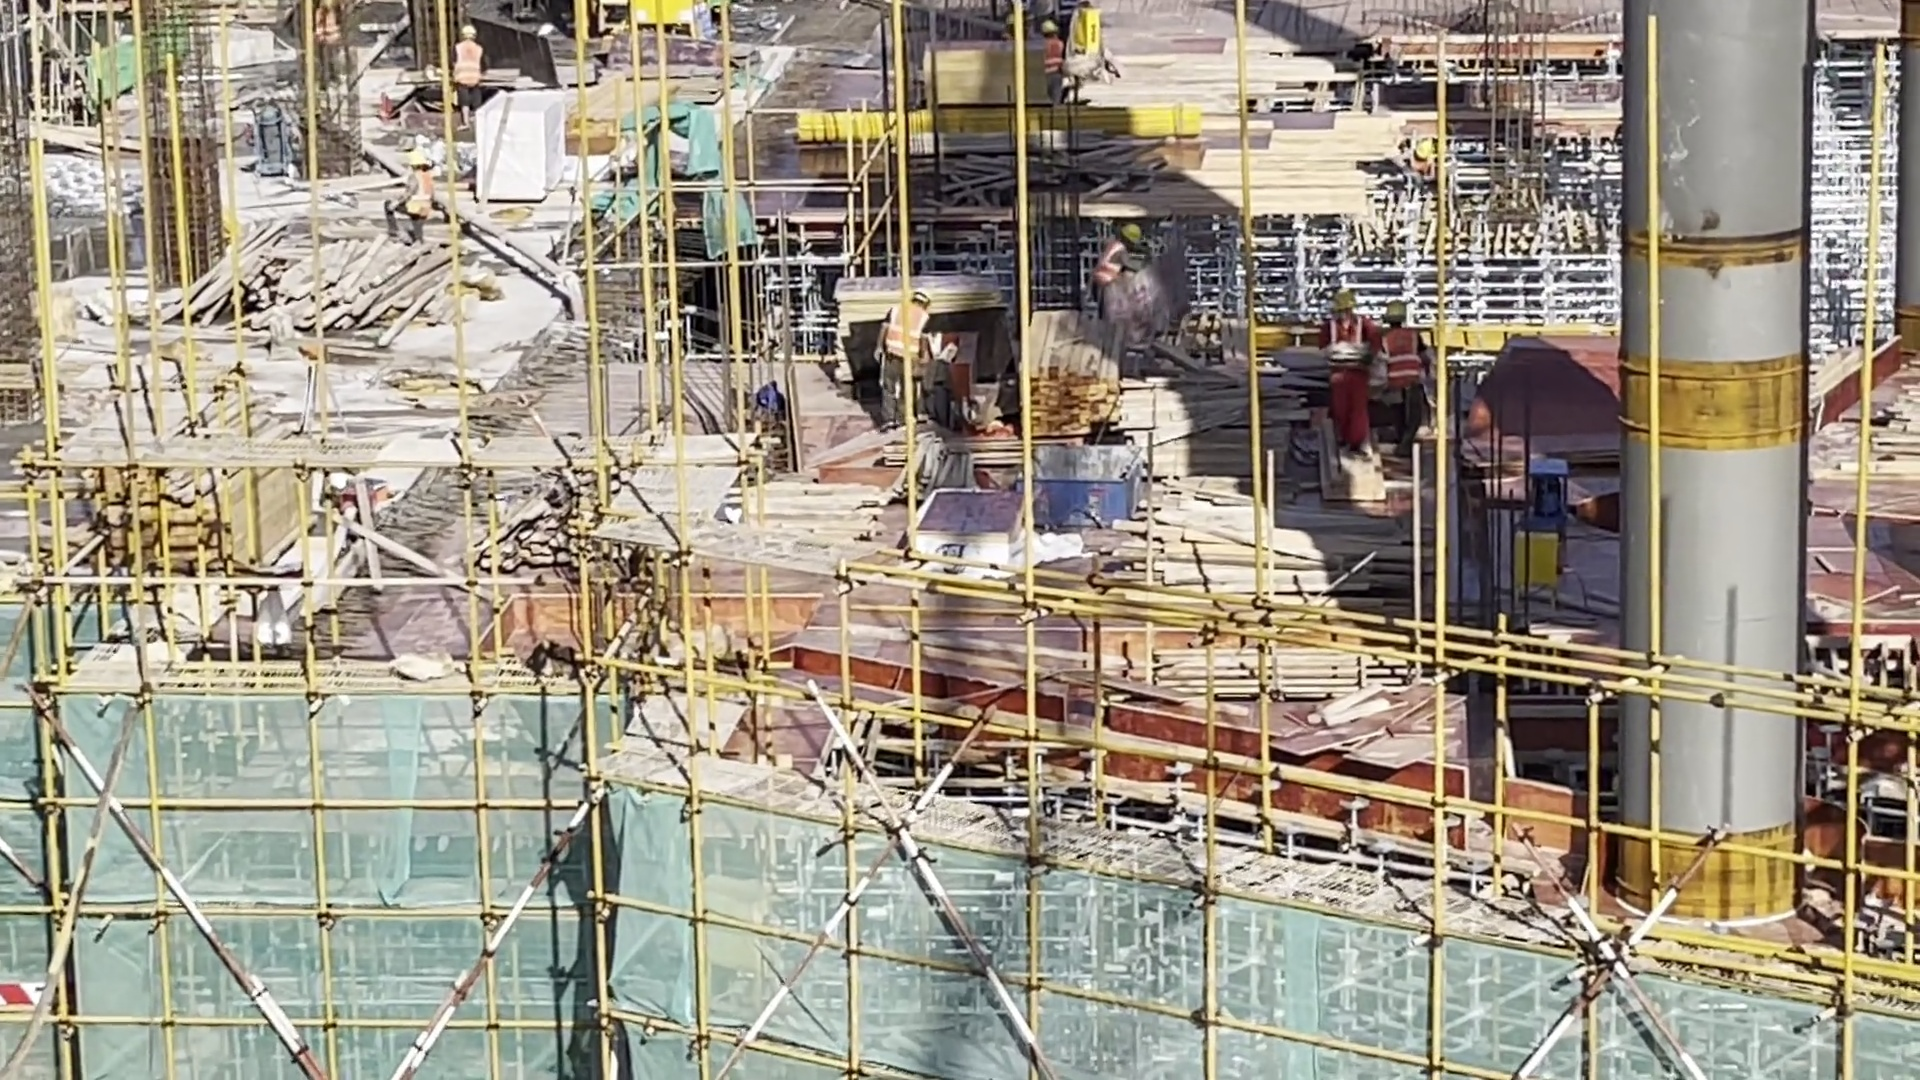helmet: (1117, 221, 1146, 248), (1333, 289, 1359, 315), (1382, 300, 1408, 326), (1038, 14, 1060, 39), (1412, 139, 1431, 168), (459, 24, 474, 39)
person: (873, 283, 948, 459), (1326, 281, 1377, 479), (1375, 293, 1434, 454), (1086, 224, 1158, 326), (451, 12, 490, 127), (1030, 12, 1070, 122), (1401, 137, 1445, 216)
vest: (886, 303, 932, 369), (1091, 234, 1131, 305), (1328, 311, 1369, 370), (1382, 332, 1427, 383), (1034, 35, 1071, 90), (404, 172, 436, 227), (453, 41, 486, 94)
